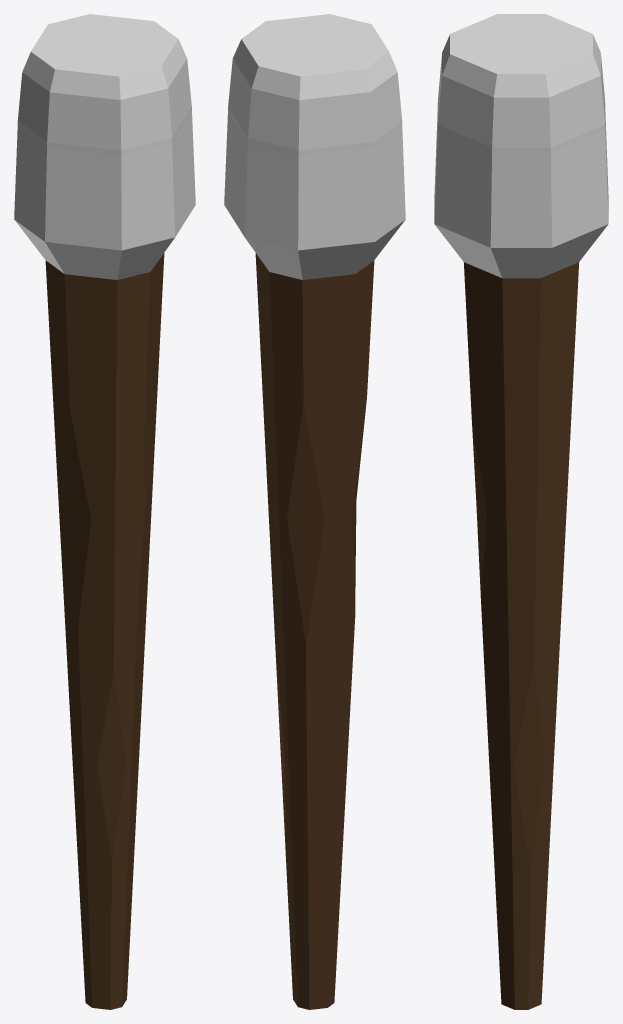
Rendered from Torch_var_03.fbx.
3 views of the same model, side by side, from view 1: azimuth 30°, elevation 25°; view 2: azimuth 150°, elevation 25°; view 3: azimuth 270°, elevation 25° (orthographic).
Parts seen in each view (by area): view 1: Torch_var_03; view 2: Torch_var_03; view 3: Torch_var_03.
Boxes of the visible parts, x1,y1,x2,y2 form: Torch_var_03: (14, 14, 195, 1009); Torch_var_03: (224, 14, 405, 1009); Torch_var_03: (434, 14, 608, 1009).
Size of the model in its own units: 21.15 by 128 by 21.15.
